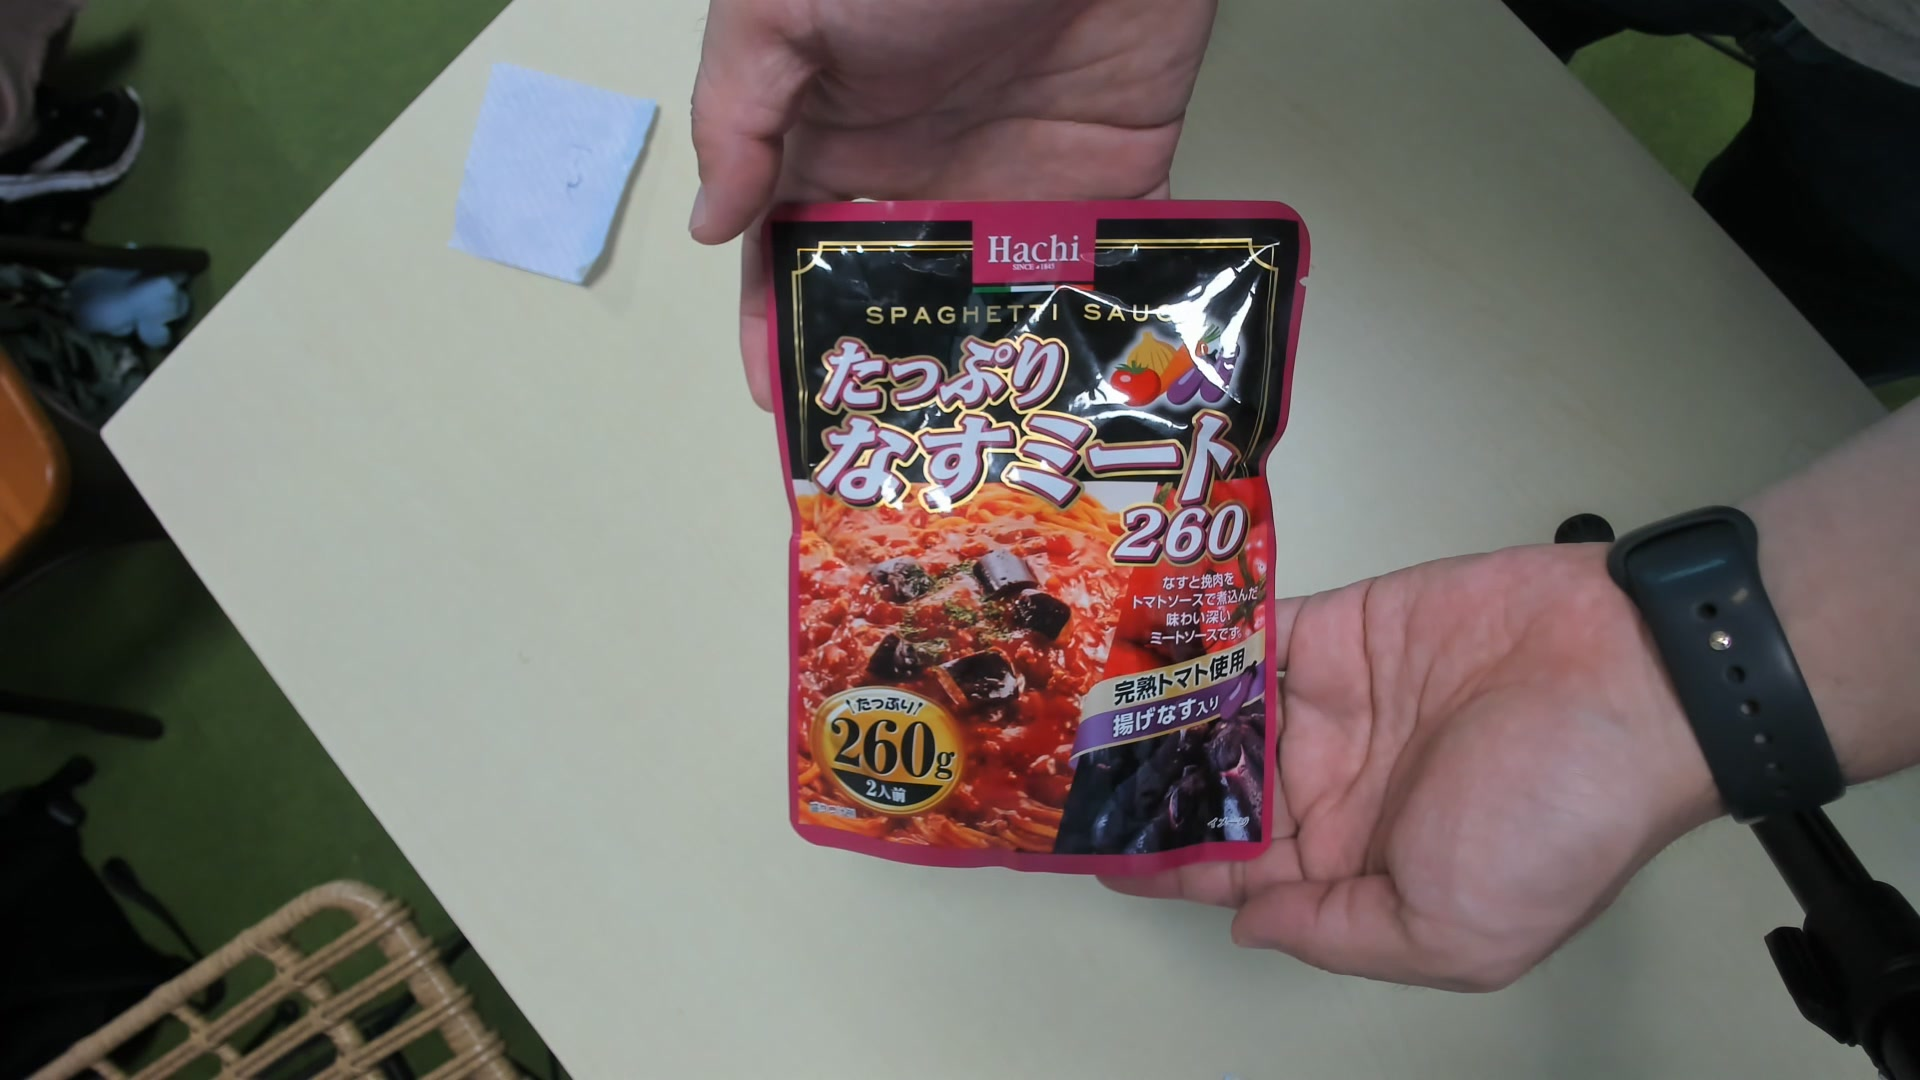PastaSauce_200-299g_NonHalal_NonHealthy: (767, 203, 1278, 870)
